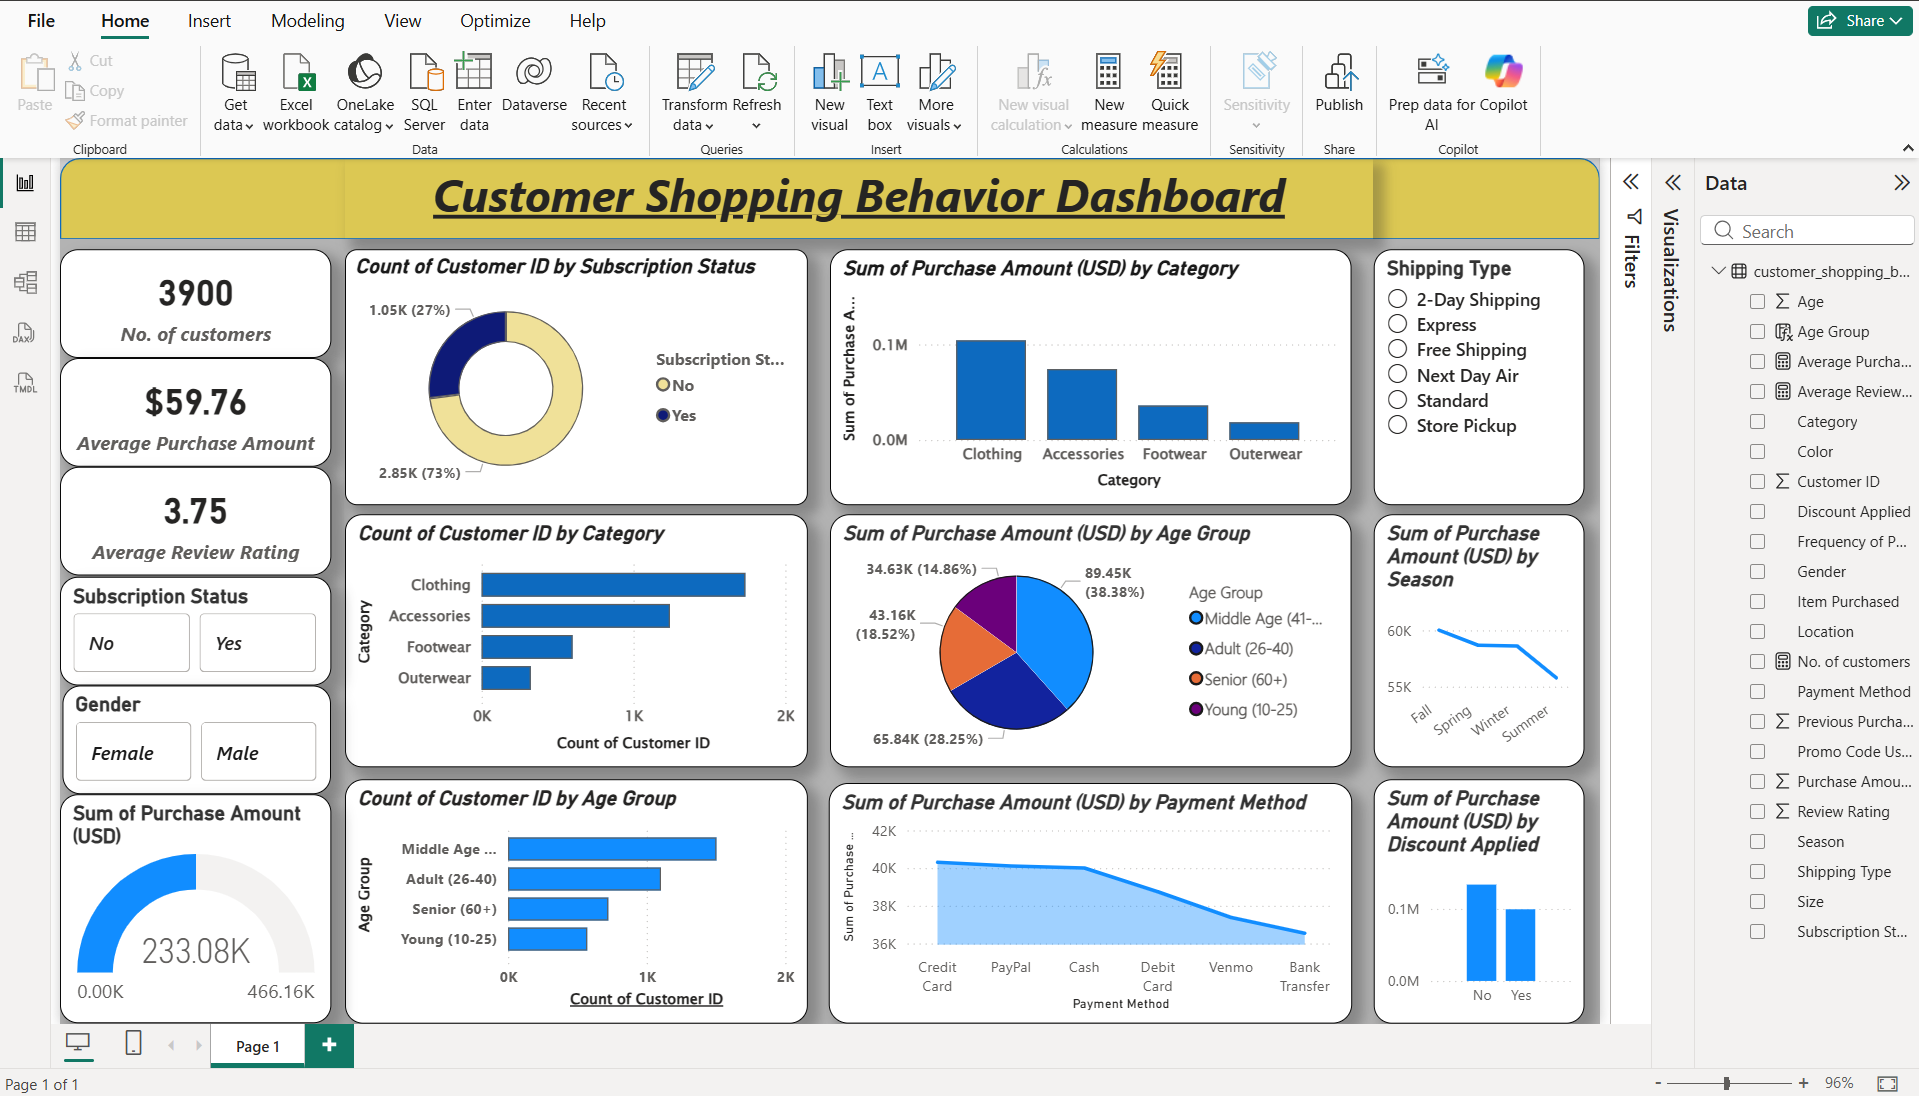

The dashboard page shown, as its layout file describes it:
{"tool":"powerbi","page":{"name":"Page 1","canvas":[1280,720],"ordinal":0},"visuals":[{"type":"card","fields":{"Values":["customer_shopping_behavior.No. of customers"]},"box":[0,75.6,225.6,90.7],"z":0},{"type":"card","fields":{"Values":["customer_shopping_behavior.Average Purchase Amount"]},"box":[0,166.3,225.6,90.7],"z":1000},{"type":"card","fields":{"Values":["customer_shopping_behavior.Average Review Rating"]},"box":[0,257,225.6,90.7],"z":2000},{"type":"shape","box":[0,0,1280.2,67.4],"z":3000},{"type":"textbox","box":[237.2,0,854.7,67.4],"z":4000},{"type":"donutChart","fields":{"Category":["customer_shopping_behavior.Subscription Status"],"Y":["CountNonNull(customer_shopping_behavior.Customer ID)"]},"box":[237.2,75.6,384.9,212.8],"z":5000},{"type":"clusteredColumnChart","fields":{"Y":["Sum(customer_shopping_behavior.Purchase Amount (USD))"],"Category":["customer_shopping_behavior.Category"]},"box":[640.7,75.6,433.7,212.8],"z":6000},{"type":"clusteredBarChart","fields":{"Category":["customer_shopping_behavior.Category"],"Y":["CountNonNull(customer_shopping_behavior.Customer ID)"]},"box":[237.2,296.5,384.9,210.5],"z":7000},{"type":"advancedSlicerVisual","fields":{"Values":["customer_shopping_behavior.Subscription Status"]},"box":[0,347.7,225.6,90.7],"z":8000},{"type":"advancedSlicerVisual","fields":{"Values":["customer_shopping_behavior.Gender"]},"box":[2.3,438.4,223.3,90.7],"z":9000},{"type":"listSlicer","fields":{"Values":["customer_shopping_behavior.Shipping Type"]},"box":[1091.9,75.6,175.6,212.8],"z":11000},{"type":"pieChart","fields":{"Category":["customer_shopping_behavior.Age Group"],"Y":["Sum(customer_shopping_behavior.Purchase Amount (USD))"]},"box":[640.7,296.5,433.7,210.5],"z":12000},{"type":"clusteredBarChart","fields":{"Y":["CountNonNull(customer_shopping_behavior.Customer ID)"],"Category":["customer_shopping_behavior.Age Group"]},"box":[237.2,516.3,384.9,203.5],"z":13000},{"type":"lineChart","fields":{"Category":["customer_shopping_behavior.Season"],"Y":["Sum(customer_shopping_behavior.Purchase Amount (USD))"]},"box":[1091.9,296.5,175.6,210.5],"z":14000},{"type":"gauge","fields":{"Y":["Sum(customer_shopping_behavior.Purchase Amount (USD))"]},"box":[0,529.1,225.6,190.7],"z":15000},{"type":"clusteredColumnChart","fields":{"Category":["customer_shopping_behavior.Discount Applied"],"Y":["Sum(customer_shopping_behavior.Purchase Amount (USD))"]},"box":[1091.9,516.3,175.6,203.5],"z":16000},{"type":"areaChart","fields":{"Category":["customer_shopping_behavior.Payment Method"],"Y":["Sum(customer_shopping_behavior.Purchase Amount (USD))"]},"box":[639.5,519.8,434.9,200],"z":16001}]}

Visuals, with their boxes on the page's 1280x720 design canvas (x1, y1, x2, y2). These are canvas units, not pixel positions in the 1919x1096 screenshot, which may show the page scaled, cropped or inside an application window:
card - customer_shopping_behavior.No. of customers: (0,76,226,166)
card - customer_shopping_behavior.Average Purchase Amount: (0,166,226,257)
card - customer_shopping_behavior.Average Review Rating: (0,257,226,348)
shape: (0,0,1280,67)
textbox: (237,0,1092,67)
donutChart - customer_shopping_behavior.Subscription Status x CountNonNull(customer_shopping_behavior.Customer ID): (237,76,622,288)
clusteredColumnChart - Sum(customer_shopping_behavior.Purchase Amount (USD)) x customer_shopping_behavior.Category: (641,76,1074,288)
clusteredBarChart - customer_shopping_behavior.Category x CountNonNull(customer_shopping_behavior.Customer ID): (237,296,622,507)
advancedSlicerVisual - customer_shopping_behavior.Subscription Status: (0,348,226,438)
advancedSlicerVisual - customer_shopping_behavior.Gender: (2,438,226,529)
listSlicer - customer_shopping_behavior.Shipping Type: (1092,76,1268,288)
pieChart - customer_shopping_behavior.Age Group x Sum(customer_shopping_behavior.Purchase Amount (USD)): (641,296,1074,507)
clusteredBarChart - CountNonNull(customer_shopping_behavior.Customer ID) x customer_shopping_behavior.Age Group: (237,516,622,720)
lineChart - customer_shopping_behavior.Season x Sum(customer_shopping_behavior.Purchase Amount (USD)): (1092,296,1268,507)
gauge - Sum(customer_shopping_behavior.Purchase Amount (USD)): (0,529,226,720)
clusteredColumnChart - customer_shopping_behavior.Discount Applied x Sum(customer_shopping_behavior.Purchase Amount (USD)): (1092,516,1268,720)
areaChart - customer_shopping_behavior.Payment Method x Sum(customer_shopping_behavior.Purchase Amount (USD)): (640,520,1074,720)
